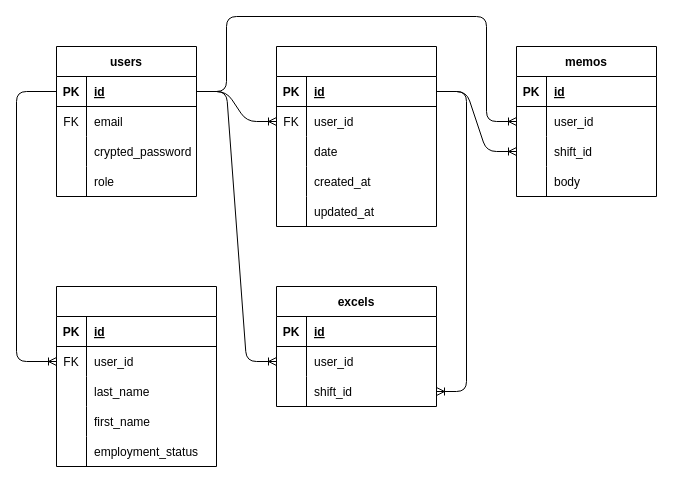
This 673x483 diagram has some shape labels left out. Here are the shapes that lost their labels. From the top down, the box of each, then its label:
(276, 46, 436, 226): shifts
(56, 286, 216, 466): employees
